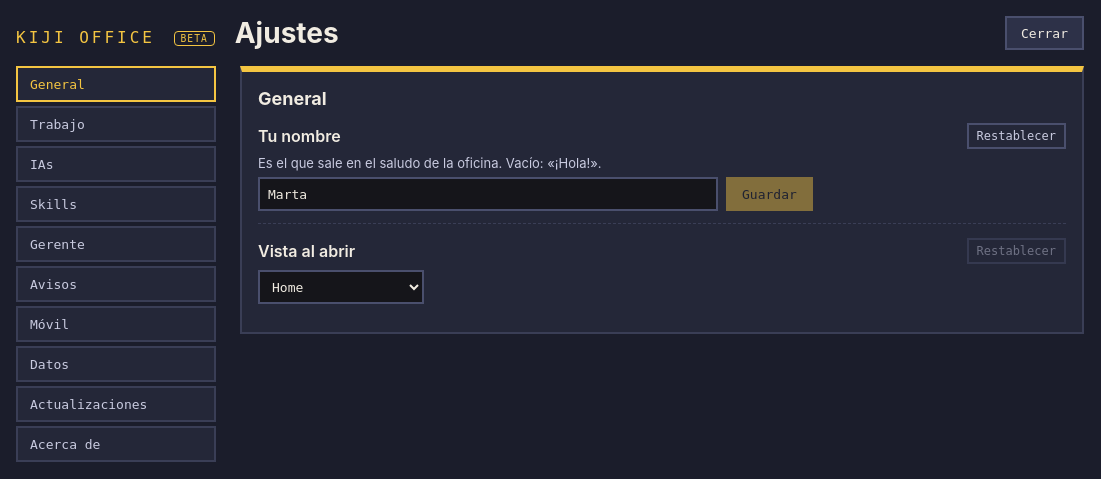
Test: SettingsScreen › carga settings.all y guarda un campo con settings.set
Step 1. Replace the text in the field labelled "Tu nombre" with "Luz" → (488, 194), box [258,177,718,211]
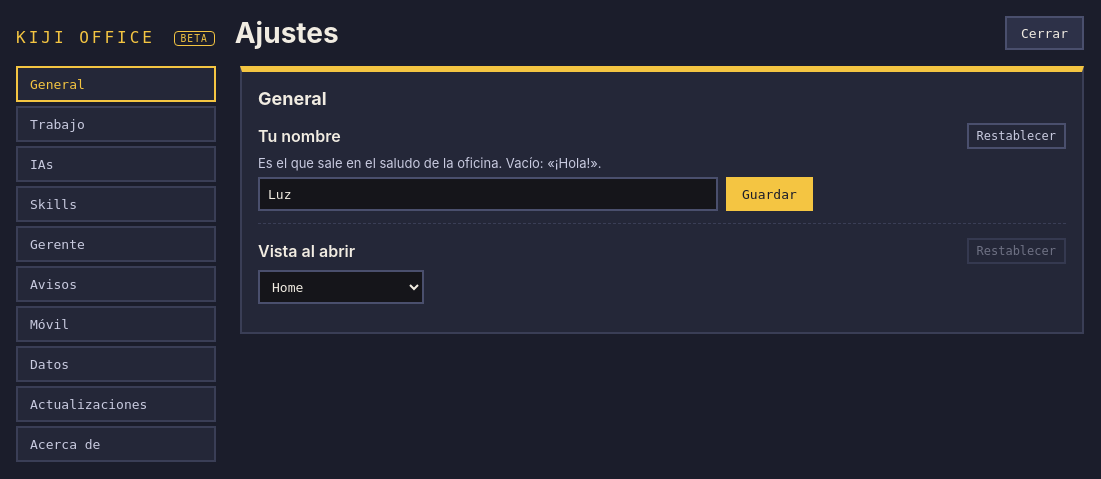
Step 2. Click the button with aria-label "Guardar Tu nombre" → (769, 194), box [726,177,813,211]
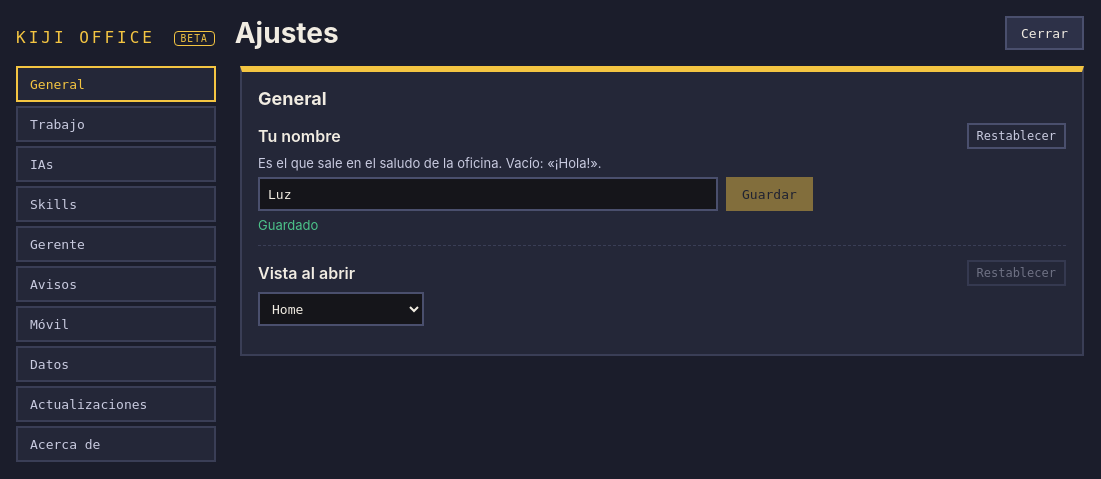
Now the message reads "Guardado", box [258,217,318,233]
